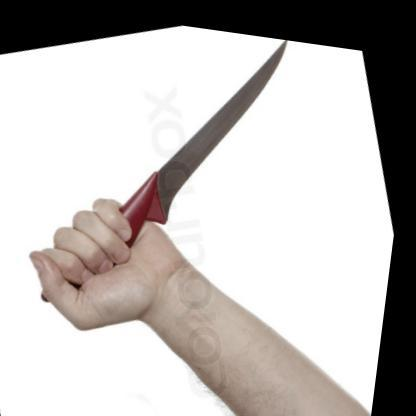knife: (6, 3, 353, 314)
